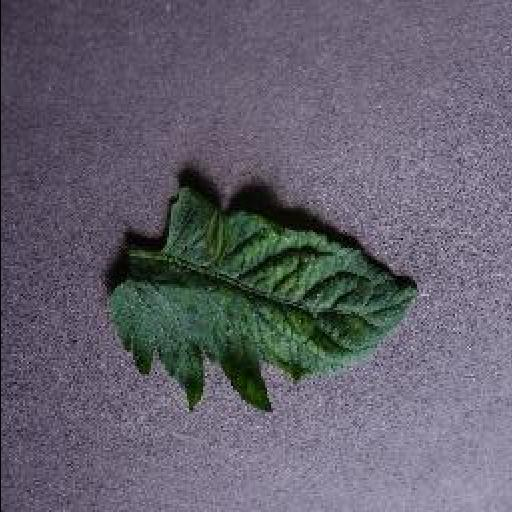Mosaic Virus: (110, 174, 422, 412)
